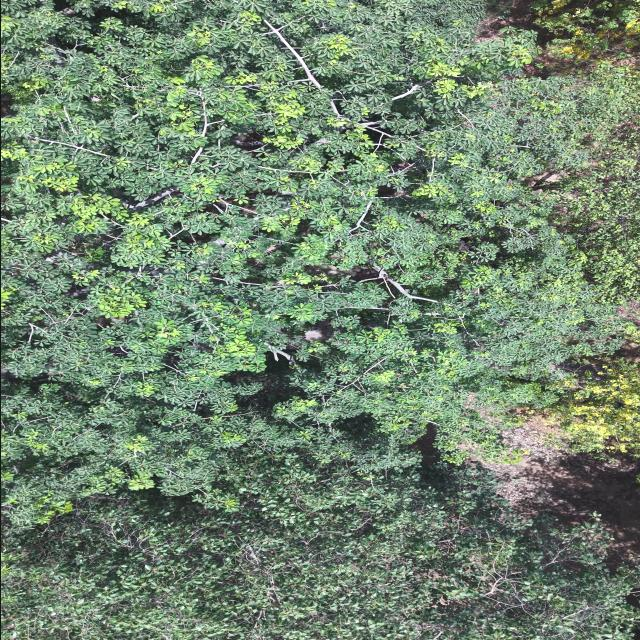VEGETATION_TREE: (1, 0, 639, 639), (3, 0, 624, 522), (1, 451, 639, 639)
